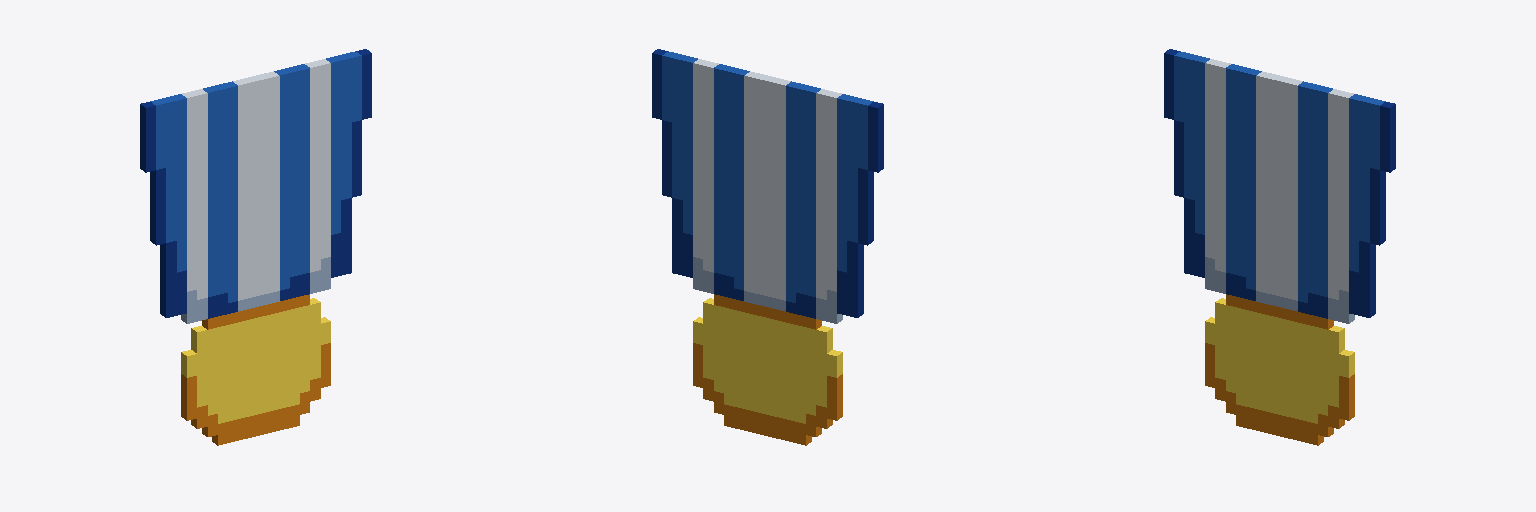
The model's file is Medal.obj.
3 renders of one model, left to right at view 1: azimuth 30°, elevation 25°; view 2: azimuth 150°, elevation 25°; view 3: azimuth 330°, elevation 25°, orthographic.
Bounding box in the file's own units: 22 × 33 × 1.